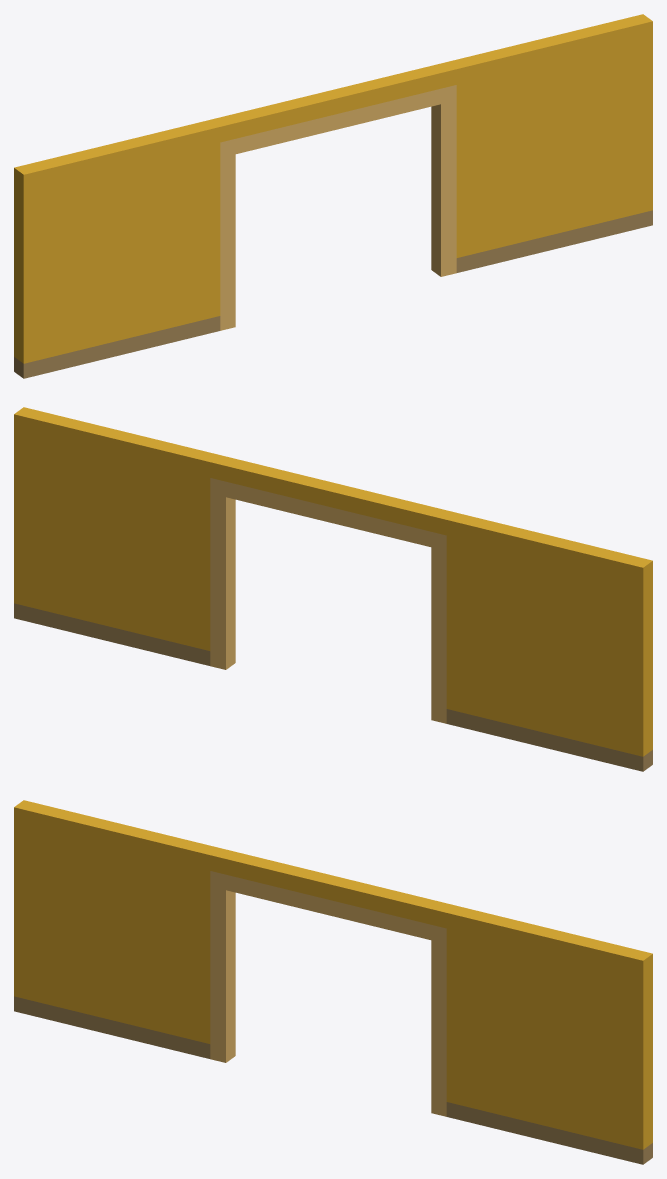
The model's file is WallGarageDoorGeo.fbx.
The picture shows the model from 3 angles, top to bottom: view 1: azimuth 30°, elevation 25°; view 2: azimuth 150°, elevation 25°; view 3: azimuth 330°, elevation 25°; orthographic projection.
Visible parts, largest first — view 1: WallGarageDoorGeo; view 2: WallGarageDoorGeo; view 3: WallGarageDoorGeo.
Boxes of the visible parts, box(x1,y1,x2,y2) form: WallGarageDoorGeo: box(14, 14, 652, 378); WallGarageDoorGeo: box(14, 407, 652, 771); WallGarageDoorGeo: box(14, 800, 652, 1164).
Bounding box in the file's own units: 1613 × 500 × 43.52.
